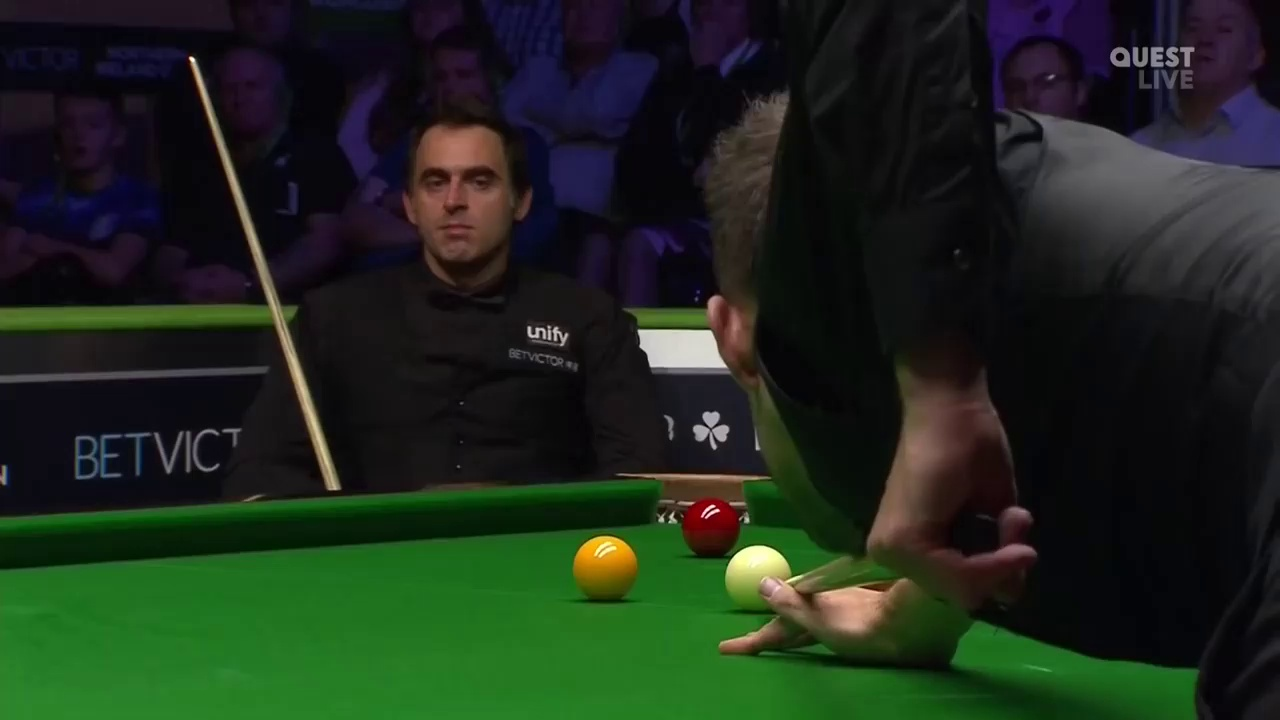red: (679, 498, 739, 550)
white: (725, 547, 787, 585)
yellow: (571, 537, 635, 601)
